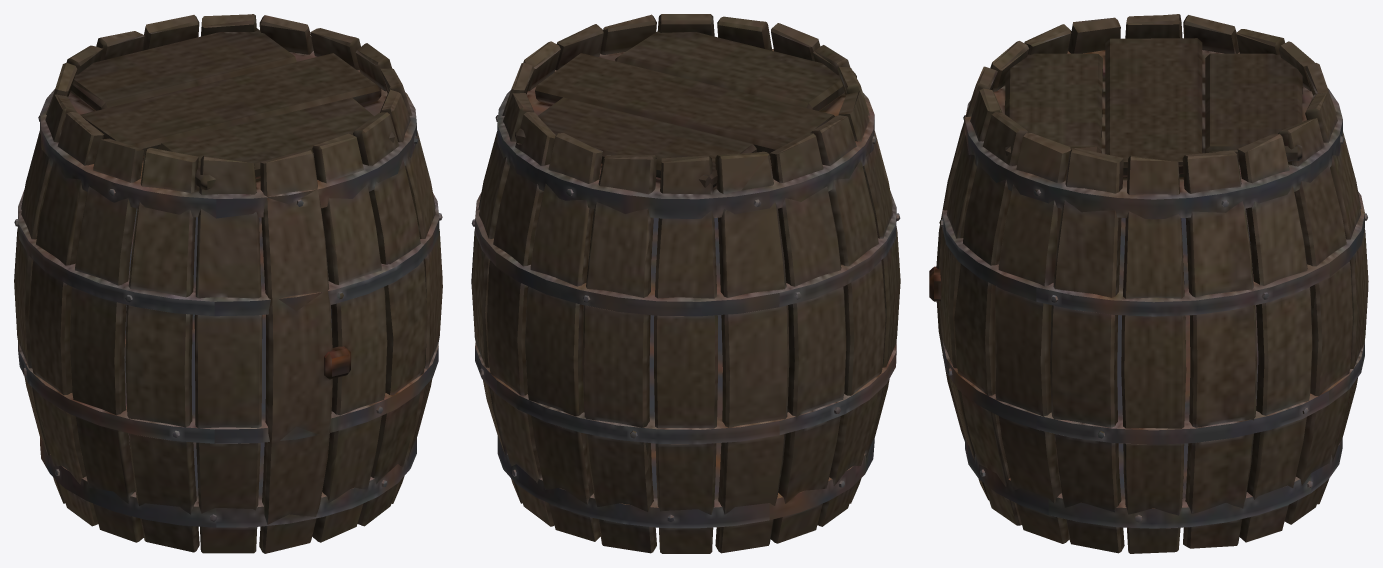
The model's file is barrel.glb.
3 renders of one model, left to right at view 1: azimuth 30°, elevation 25°; view 2: azimuth 150°, elevation 25°; view 3: azimuth 270°, elevation 25°, orthographic.
Parts seen in each view (by area): view 1: barrel; view 2: barrel; view 3: barrel.
Part boxes in pixels (<box>): barrel: <box>14,14,442,553</box>; barrel: <box>471,14,900,553</box>; barrel: <box>929,14,1368,553</box>.
Size of the model in its own units: 0.7222 by 0.7423 by 0.7458.
1 material, 1 textured.
